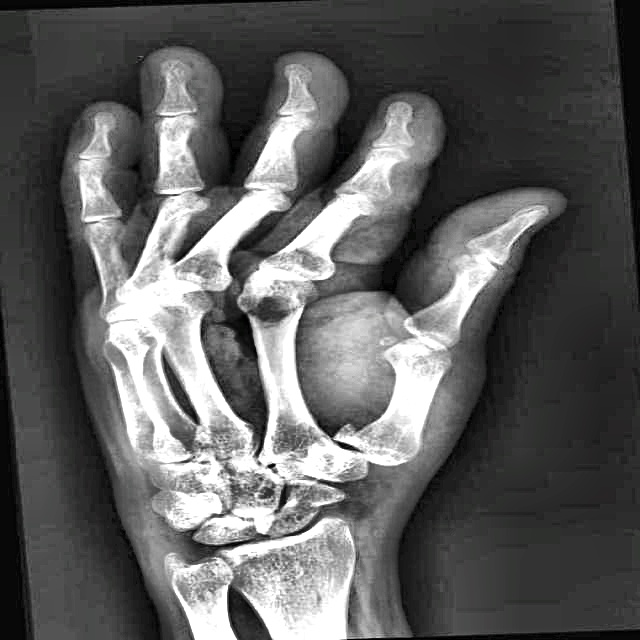Oblique Displaced: (126, 195, 206, 280)
